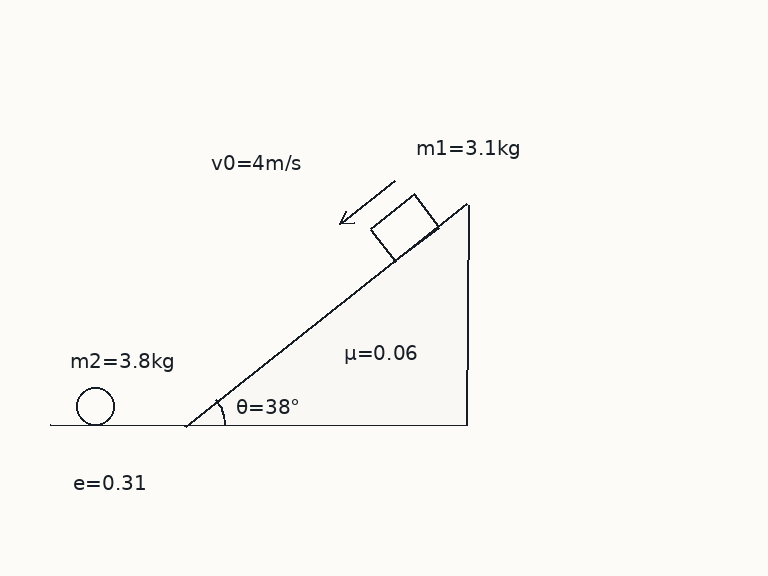ball: (74, 385, 116, 427)
block: (368, 192, 441, 263)
ramp: (183, 203, 469, 427)
